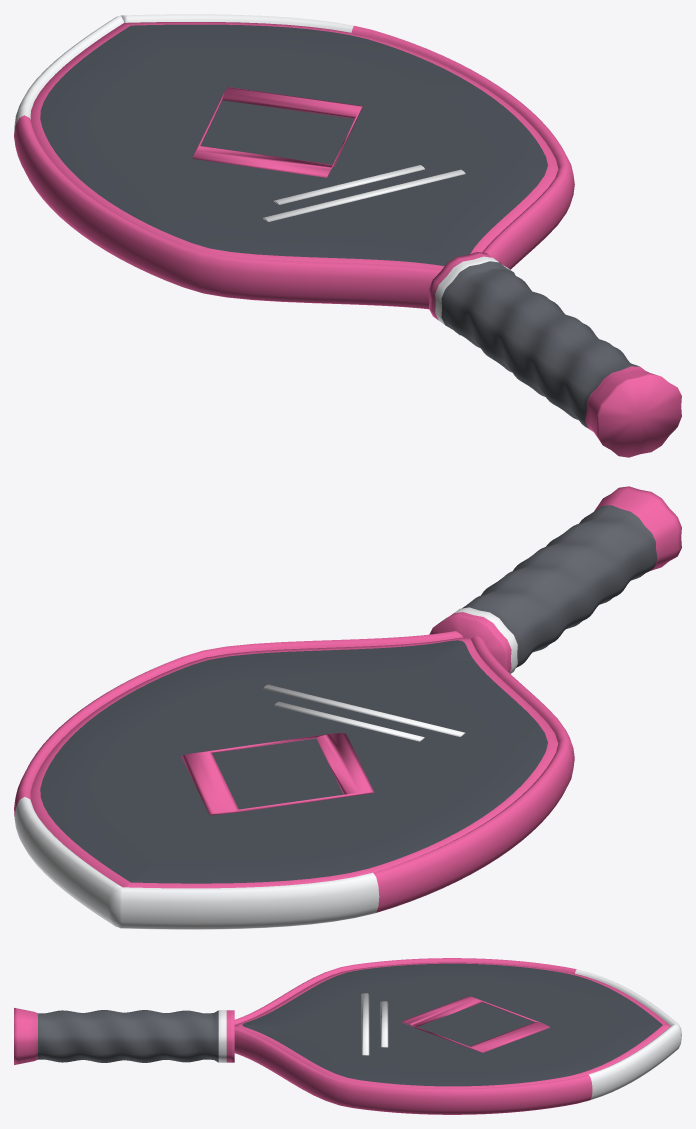
The model's file is paddle.glb.
3 renders of one model, top to bottom at view 1: azimuth 30°, elevation 25°; view 2: azimuth 150°, elevation 25°; view 3: azimuth 270°, elevation 25°, orthographic. The views are drawn at different scales.
Parts seen in each view (by area): view 1: Paddle_Pro_Honeycomb; view 2: Paddle_Pro_Honeycomb; view 3: Paddle_Pro_Honeycomb.
Part boxes in pixels (x1,y1,x2,y2): Paddle_Pro_Honeycomb: (14,14,681,457); Paddle_Pro_Honeycomb: (14,486,681,929); Paddle_Pro_Honeycomb: (14,958,681,1114).
Bounding box in the file's own units: 0.2044 × 0.0343 × 0.4238.
